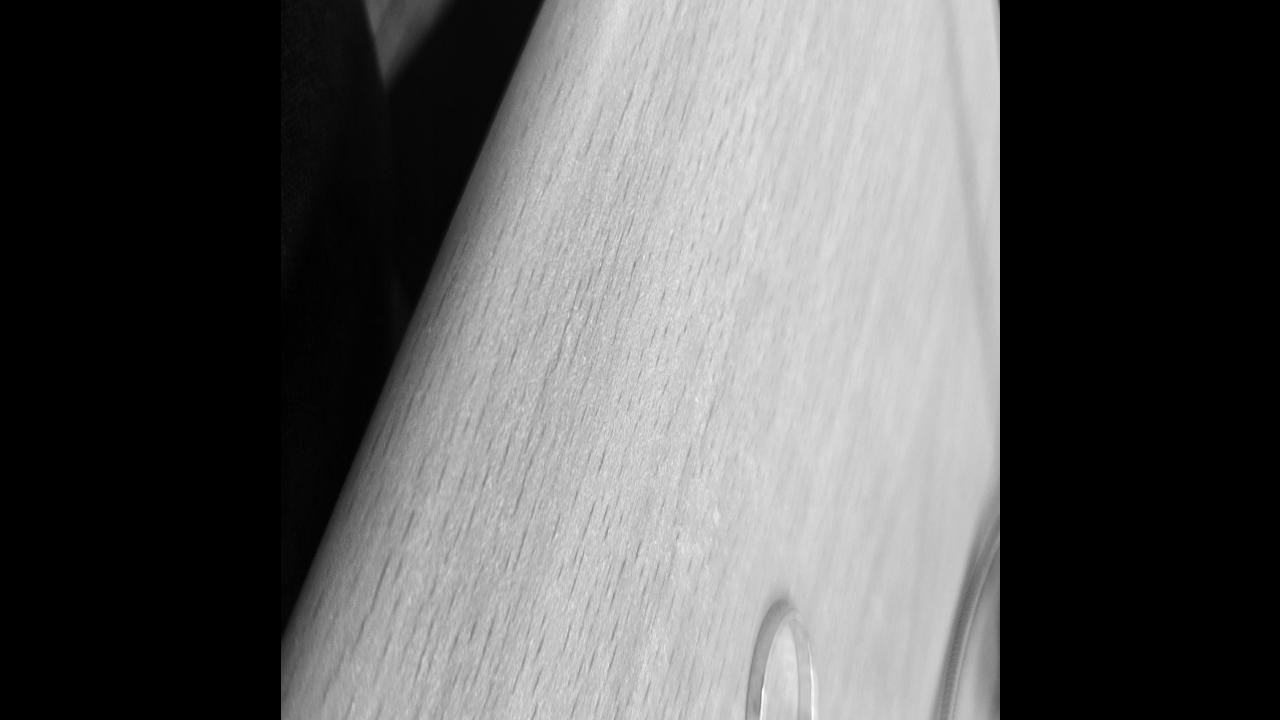ring: (743, 603, 815, 720)
